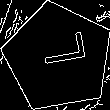L_W: (30, 38, 86, 77)
